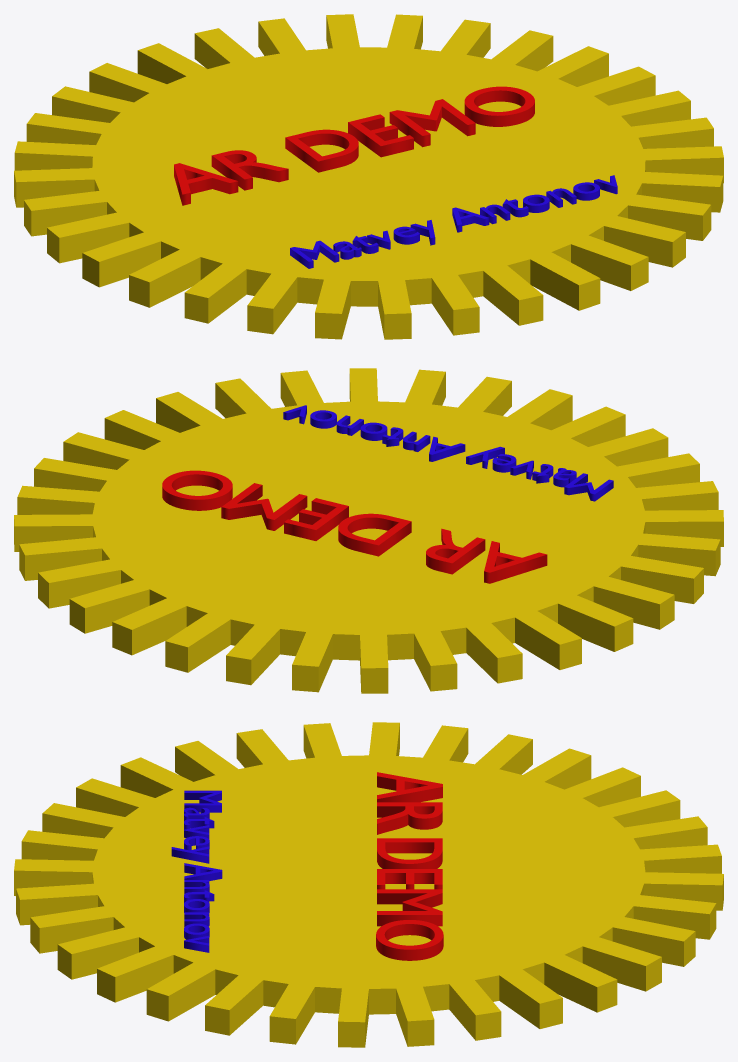
File: my-coin.glb
3 views of the same model, one above another, from view 1: azimuth 30°, elevation 25°; view 2: azimuth 150°, elevation 25°; view 3: azimuth 270°, elevation 25° (orthographic).
Parts seen in each view (by area): view 1: Cylinder, Text.001, Text.002; view 2: Cylinder, Text.001, Text.002; view 3: Cylinder, Text.001, Text.002.
Boxes of the visible parts, x1,y1,x2,y2 form: Cylinder: (14, 14, 723, 339); Text.001: (174, 86, 534, 205); Text.002: (290, 175, 617, 268); Cylinder: (14, 368, 723, 693); Text.001: (162, 470, 547, 583); Text.002: (283, 405, 613, 501); Cylinder: (14, 722, 723, 1047); Text.001: (376, 772, 443, 960); Text.002: (171, 790, 222, 952).
Bounding box in the file's own units: 2.77 × 0.158 × 2.77.
